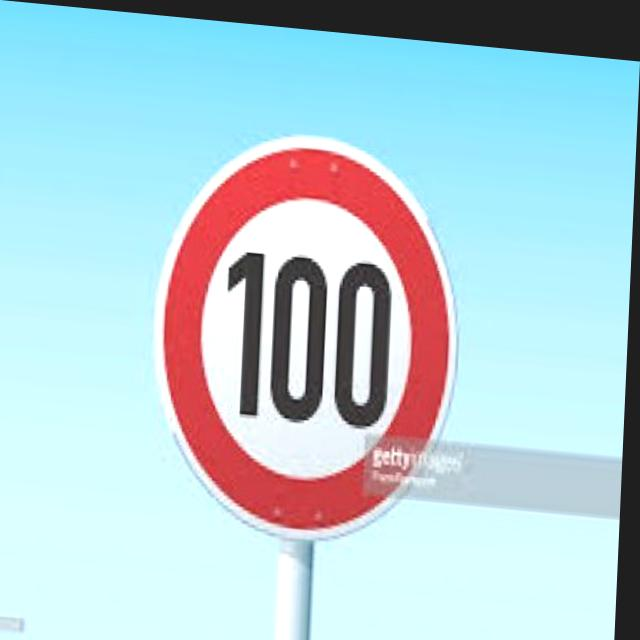limit100: (144, 113, 482, 556)
